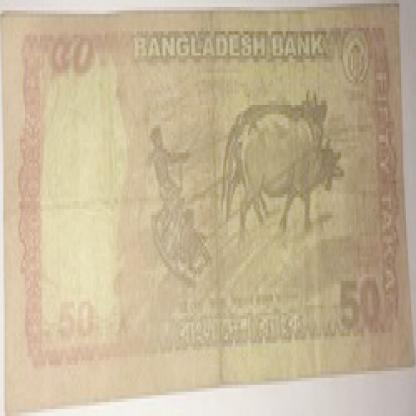Fifty taka: (42, 24, 103, 94), (330, 264, 388, 336)
